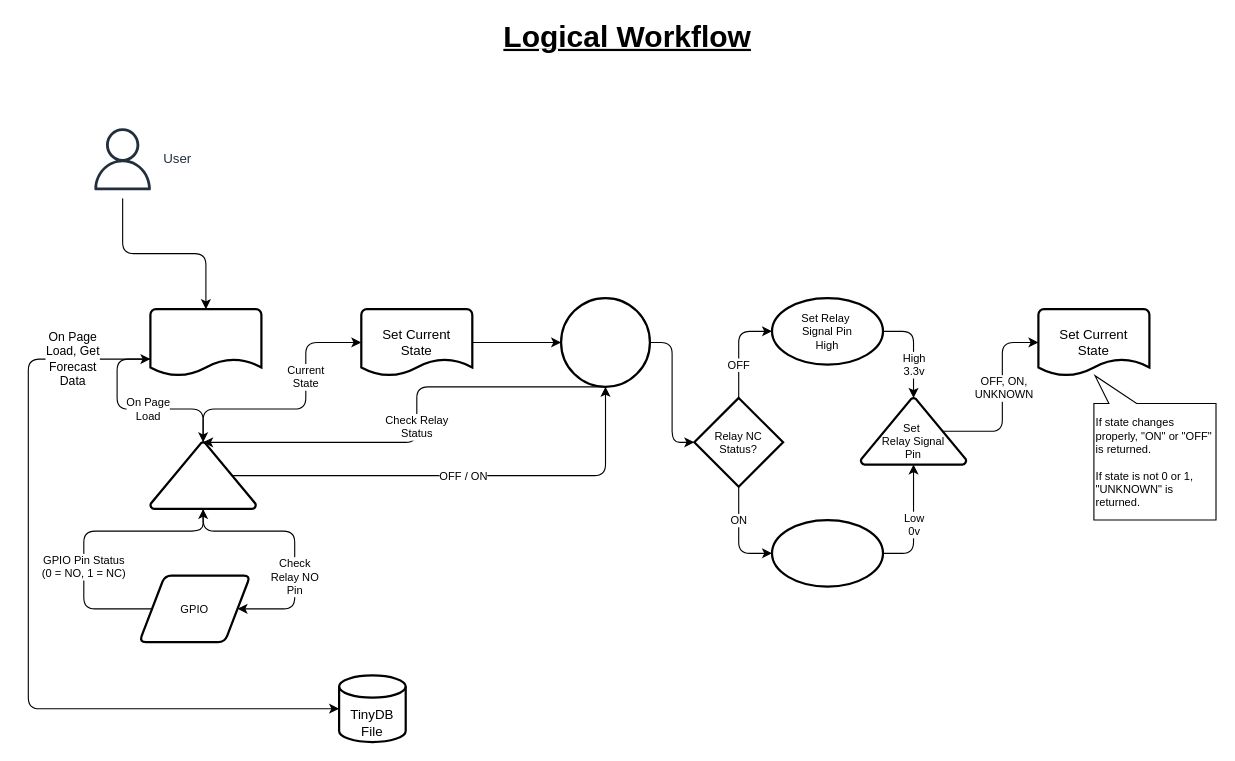
This 1235x761 diagram has some shape labels left out. The shapes that lost their labels are listed below. From the top down, each one's box as (x1, y1, x2, y2) in pixels, then its label:
(149, 307, 262, 376): Webpage
(559, 296, 650, 387): Click On/Off Button
(149, 441, 256, 509): NC Relay Status 0 = OFF, 1 = ON
(770, 518, 884, 587): Set Relay Signal Pin Low
